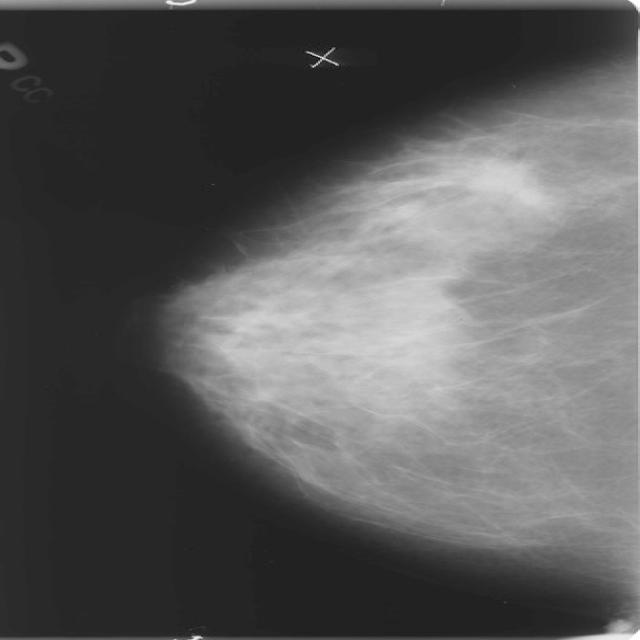tumour: (454, 154, 548, 210)
